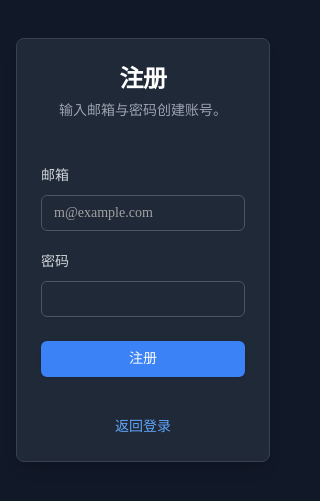
Test: Register Page › displays server validation error if register fails
Type "already@already.com" into the field labelled "邮箱" at (143, 213), box [41,195,245,231]
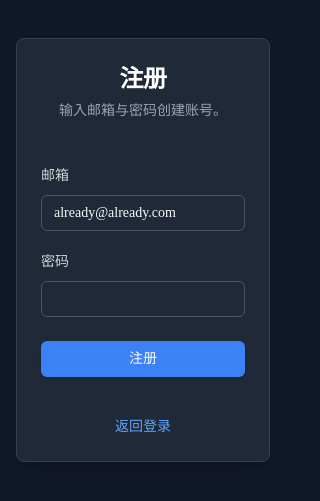
Type "@1231231%a" into the password field labelled "密码" at (143, 299), box [41,281,245,317]
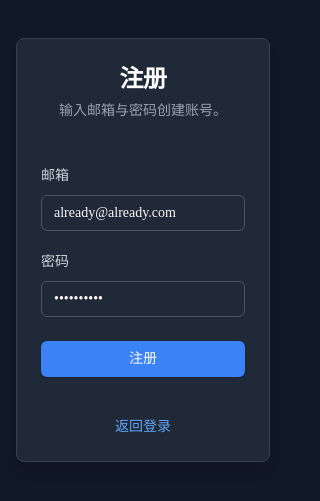
Click the button "注册" at (143, 359), box [41,341,245,377]
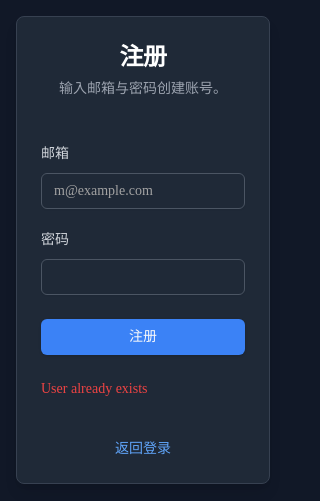
Expected: the text "User already exists" is shown, [41,381,148,396]
